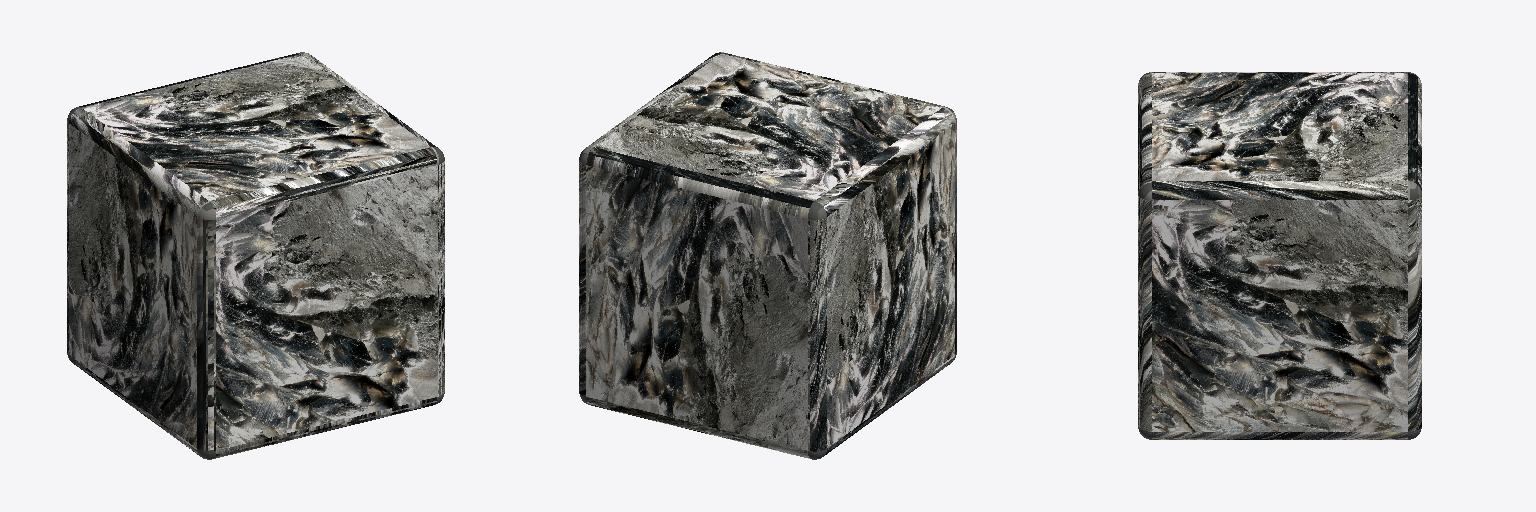
3 views of the same model, side by side, from view 1: azimuth 30°, elevation 25°; view 2: azimuth 150°, elevation 25°; view 3: azimuth 270°, elevation 25° (orthographic).
Parts seen in each view (by area): view 1: Cube; view 2: Cube; view 3: Cube.
Part boxes in pixels (left/top/right/bottom): Cube: left=67, top=52, right=444, bottom=459; Cube: left=579, top=52, right=956, bottom=459; Cube: left=1138, top=72, right=1421, bottom=439.
Size of the model in its own units: 2 by 2 by 2.
1 materials, 1 textured.